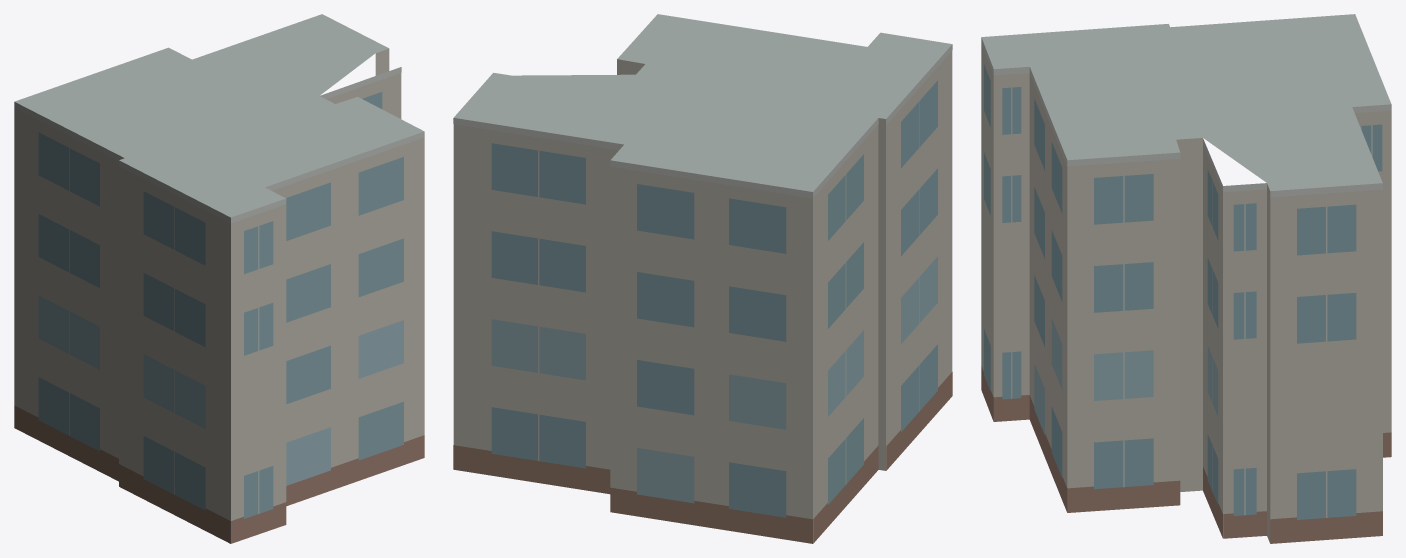
File: survey-upis-32984831.glb
The picture shows the model from 3 angles, left to right: view 1: azimuth 30°, elevation 25°; view 2: azimuth 150°, elevation 25°; view 3: azimuth 270°, elevation 25°; orthographic projection. The views are drawn at different scales.
Parts seen in each view (by area): view 1: survey-upis-32984831.tmp; view 2: survey-upis-32984831.tmp; view 3: survey-upis-32984831.tmp.
Boxes of the visible parts, x1=… form: survey-upis-32984831.tmp: x1=14, y1=14, x2=424, y2=543; survey-upis-32984831.tmp: x1=453, y1=14, x2=952, y2=543; survey-upis-32984831.tmp: x1=981, y1=14, x2=1391, y2=543.
Bounding box in the file's own units: 14.76 × 13.69 × 14.44.
